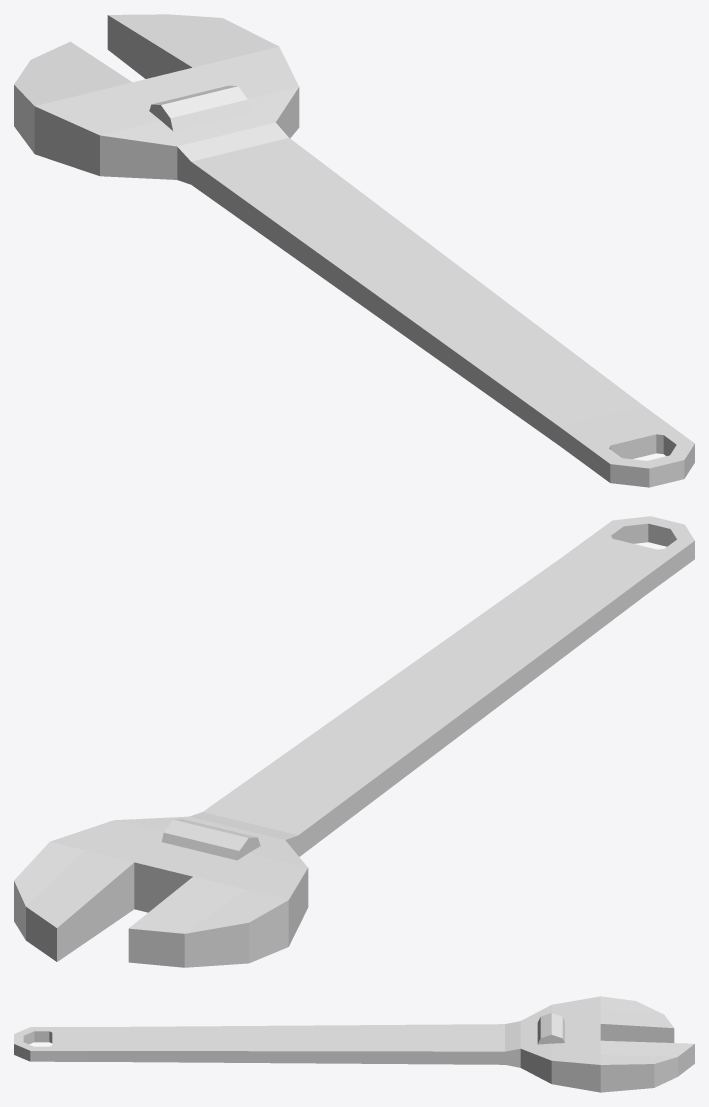
Rendered from Wrench_02.fbx.
3 renders of one model, top to bottom at view 1: azimuth 30°, elevation 25°; view 2: azimuth 150°, elevation 25°; view 3: azimuth 270°, elevation 25°, orthographic. The views are drawn at different scales.
Parts seen in each view (by area): view 1: Wrench_02; view 2: Wrench_02; view 3: Wrench_02.
Boxes of the visible parts, x1,y1,x2,y2 form: Wrench_02: (14, 14, 694, 487); Wrench_02: (14, 516, 694, 967); Wrench_02: (14, 996, 694, 1092).
Size of the model in its own units: 10.51 by 2.46 by 44.06.
